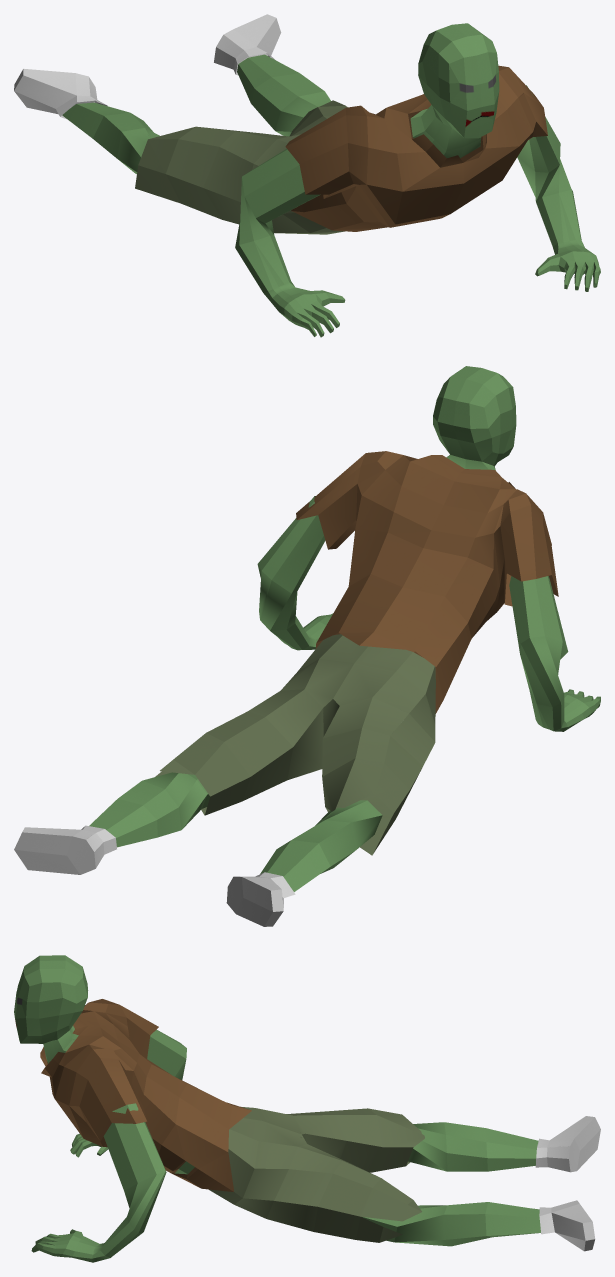
Rendered from ZombieCrawl(152).obj.
3 renders of one model, top to bottom at view 1: azimuth 30°, elevation 25°; view 2: azimuth 150°, elevation 25°; view 3: azimuth 270°, elevation 25°, orthographic. The views are drawn at different scales.
Parts seen in each view (by area): view 1: Object001; view 2: Object001; view 3: Object001.
Boxes of the visible parts, box(x1,y1,x2,y2) form: Object001: box(14, 14, 600, 337); Object001: box(14, 366, 600, 926); Object001: box(14, 955, 600, 1262).
Size of the model in its own units: 28.48 by 25.68 by 53.57.
